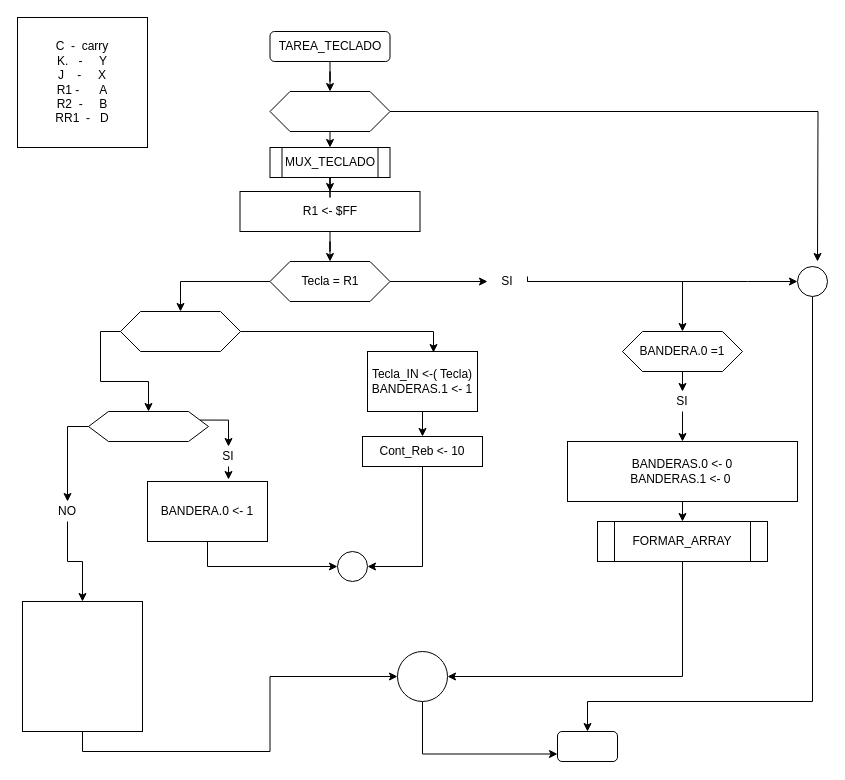
Image size: 845x780. Some labels were removed from this diagram. The centre of each missing label's shape, as x and y in pixels:
"(Tecla_IN) = (Tecla)" belongs at [148,426].
"BANDERAS.1 = 0" belongs at [180,331].
"Cont_Reb = 0" belongs at [329,111].
"RTS" belongs at [587,746].
"Tecla <- $FF Tecla_IN <- $FF BANDERA.0 <- 0 BANDERA.1 <- 0" belongs at [82,666].
